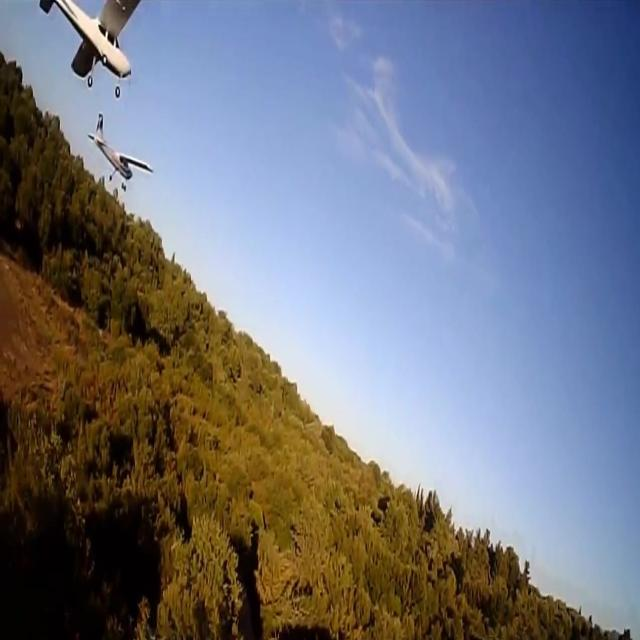iha: (6, 32, 45, 65), (55, 144, 58, 161)
